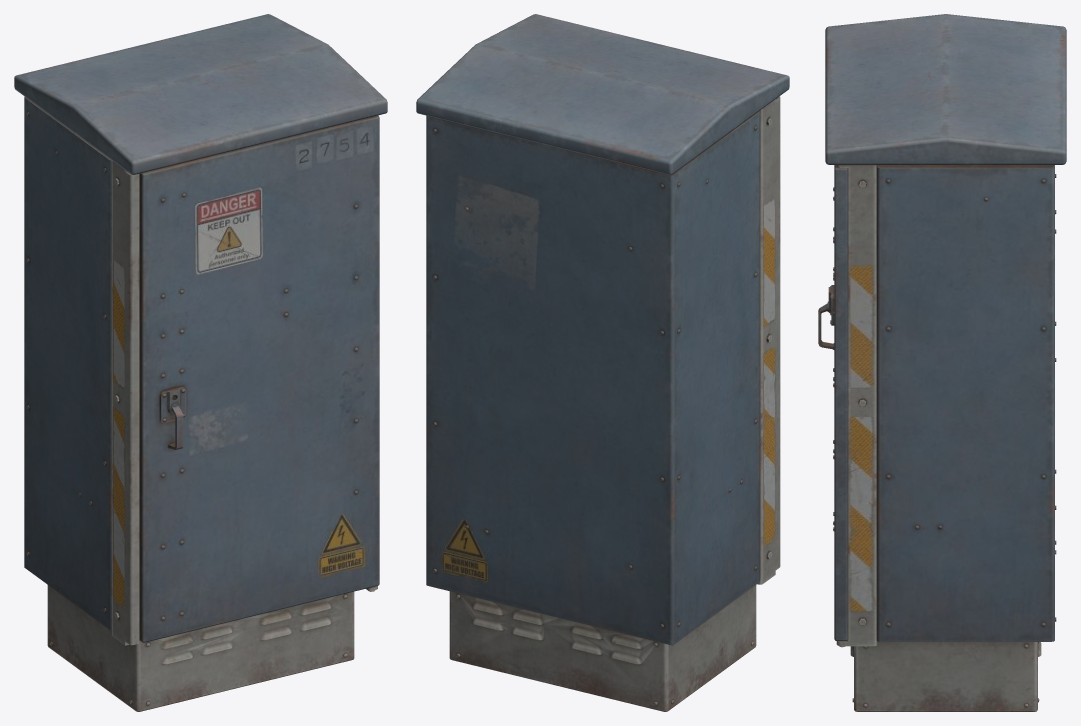
File: utility_box_01.glb
The picture shows the model from 3 angles, left to right: view 1: azimuth 30°, elevation 25°; view 2: azimuth 150°, elevation 25°; view 3: azimuth 270°, elevation 25°; orthographic projection.
Parts seen in each view (by area): view 1: utility_box_01_box; view 2: utility_box_01_box; view 3: utility_box_01_box.
Boxes of the visible parts, x1,y1,x2,y2 form: utility_box_01_box: [14, 14, 387, 711]; utility_box_01_box: [416, 14, 789, 711]; utility_box_01_box: [818, 14, 1066, 711].
Size of the model in its own units: 0.52 by 1.12 by 0.432.
1 material, 1 textured.
